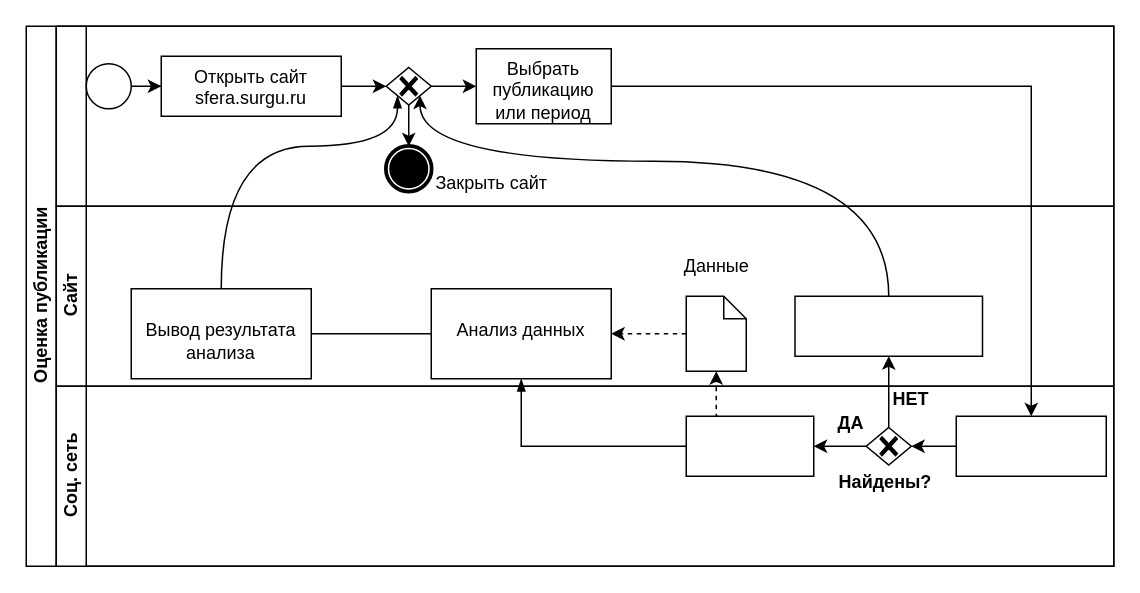
Some shapes in this 1140 by 593 pixel diagram are drawn without their labels. The box of each missing label's shape, as (x1, y1, x2, y2) in pixels:
Нахождение публикаций: (685, 415, 814, 476)
поиск публикаций: (955, 415, 1106, 476)
Пользователь: (55, 25, 1114, 206)
уведомление об отсутствии: (794, 295, 982, 356)
